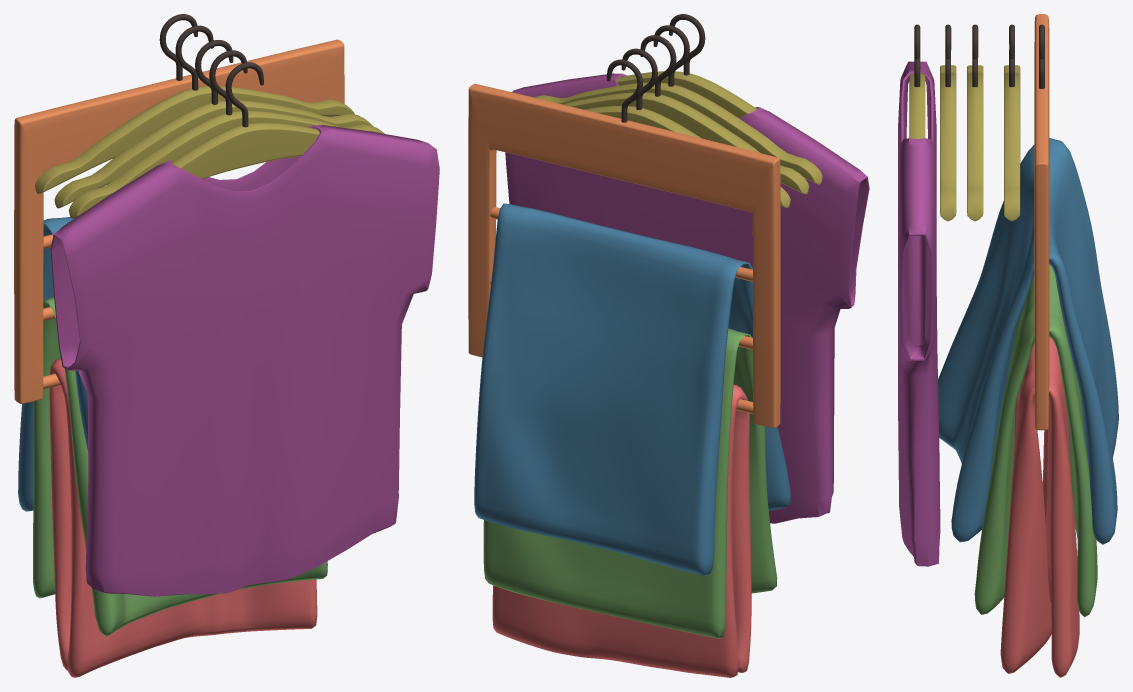
The model's file is PROP_RoupasPend_1.fbx.
The picture shows the model from 3 angles, left to right: view 1: azimuth 30°, elevation 25°; view 2: azimuth 150°, elevation 25°; view 3: azimuth 270°, elevation 25°; orthographic projection. The views are drawn at different scales.
Parts seen in each view (by area): view 1: Camiseta, Corpo (×2), Tecido3, Tecido2, Corpo3, Corpo2, Corpo1, Tecido1, Arame (×2), Arame3, Arame1; view 2: Tecido1, Camiseta, Corpo (×2), Tecido2, Tecido3, Corpo1, Corpo2, Corpo3, Arame; view 3: Tecido1, Tecido3, Camiseta, Tecido2, Corpo (×2), Corpo2, Corpo1, Corpo3, Arame (×2), Arame2, Arame1, Arame3.
Part boxes in pixels (bbox=[...]): Camiseta: bbox=[50, 125, 439, 596]; Corpo (×2): bbox=[14, 39, 344, 403]; Tecido3: bbox=[49, 358, 317, 677]; Tecido2: bbox=[33, 297, 327, 636]; Corpo3: bbox=[35, 86, 354, 193]; Corpo2: bbox=[54, 100, 372, 208]; Corpo1: bbox=[69, 111, 384, 218]; Tecido1: bbox=[18, 217, 87, 511]; Arame (×2): bbox=[159, 14, 263, 127]; Arame3: bbox=[175, 25, 213, 90]; Arame1: bbox=[209, 50, 247, 115]; Tecido1: bbox=[474, 203, 790, 575]; Camiseta: bbox=[505, 73, 869, 523]; Corpo (×2): bbox=[468, 71, 780, 428]; Tecido2: bbox=[483, 328, 777, 638]; Tecido3: bbox=[492, 384, 751, 677]; Corpo1: bbox=[534, 82, 822, 184]; Corpo2: bbox=[563, 92, 809, 194]; Corpo3: bbox=[585, 106, 790, 207]; Arame: bbox=[607, 59, 642, 122]; Tecido1: bbox=[938, 138, 1118, 544]; Tecido3: bbox=[1000, 337, 1079, 677]; Camiseta: bbox=[898, 61, 940, 566]; Tecido2: bbox=[974, 264, 1097, 617]; Corpo (×2): bbox=[909, 14, 1049, 430]; Corpo2: bbox=[967, 65, 983, 221]; Corpo1: bbox=[940, 65, 956, 221]; Corpo3: bbox=[1004, 65, 1020, 221]; Arame (×2): bbox=[914, 24, 1044, 88]; Arame2: bbox=[972, 24, 978, 87]; Arame1: bbox=[945, 24, 951, 87]; Arame3: bbox=[1009, 24, 1014, 86].
Size of the model in its own units: 5.51 by 8.86 by 2.98.
